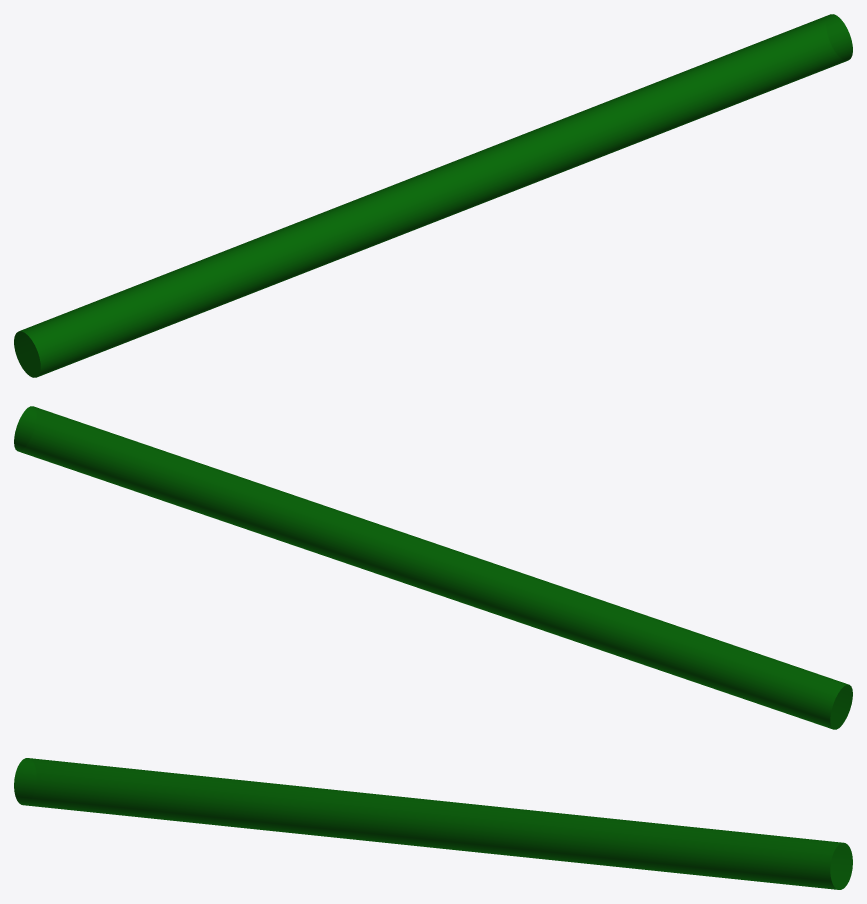
File: Event_191826238_jet_6.fbx
3 views of the same model, one above another, from view 1: azimuth 30°, elevation 25°; view 2: azimuth 150°, elevation 25°; view 3: azimuth 330°, elevation 25° (orthographic). The views are drawn at different scales.
Parts seen in each view (by area): view 1: Model; view 2: Model; view 3: Model.
Part boxes in pixels (x1,y1,x2,y2): Model: [14, 14, 852, 377]; Model: [14, 406, 852, 729]; Model: [14, 758, 852, 889].
Size of the model in its own units: 0.7783 by 0.1294 by 0.0701.
